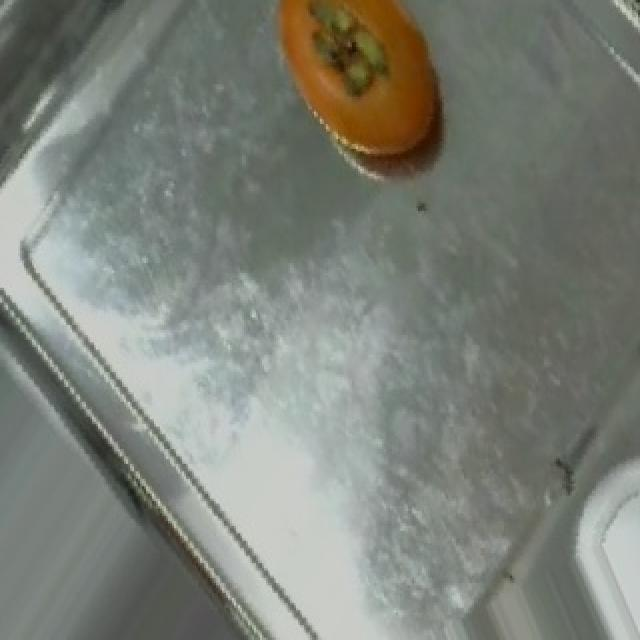Fruit: (250, 0, 466, 179), (580, 451, 640, 640)
